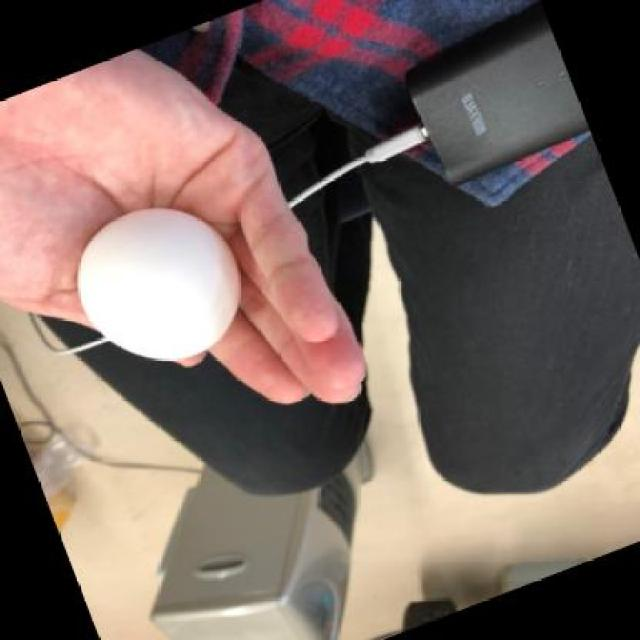egg: (76, 200, 244, 362)
